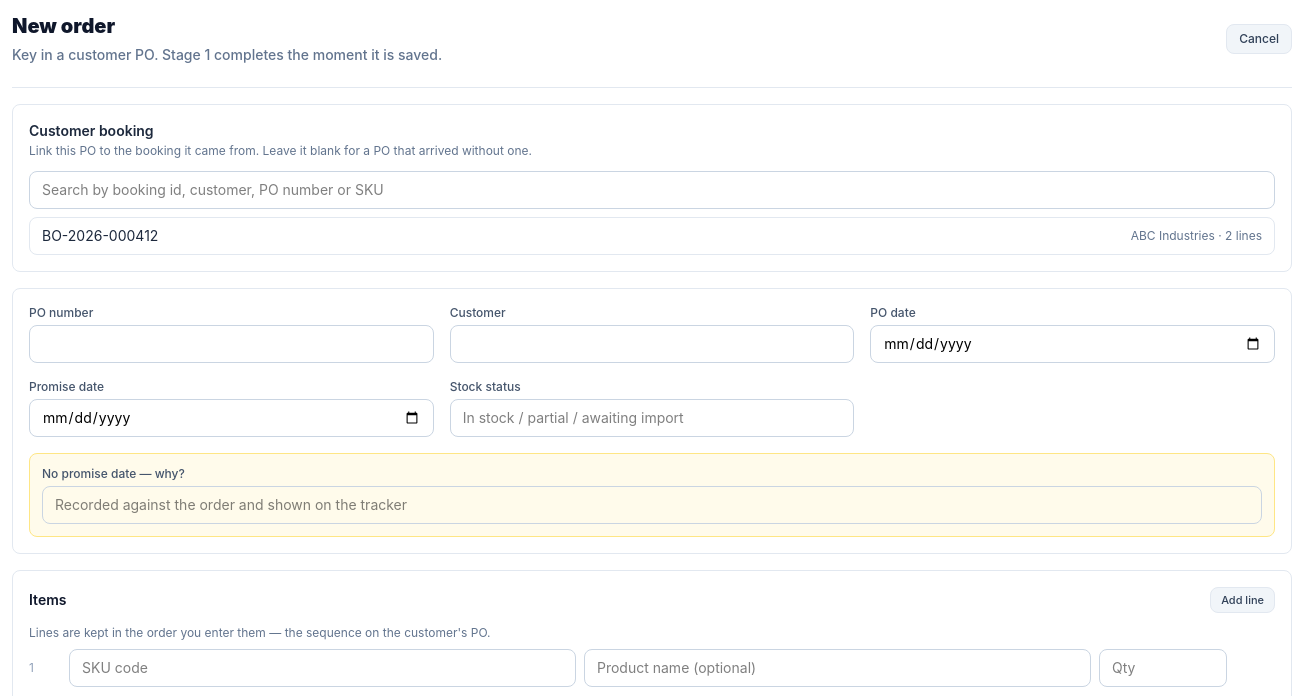
Scenario: the booking picker › unlinking clears the link without clearing the form
Click the text "BO-2026-000412": (100, 236) [42,226,158,246]
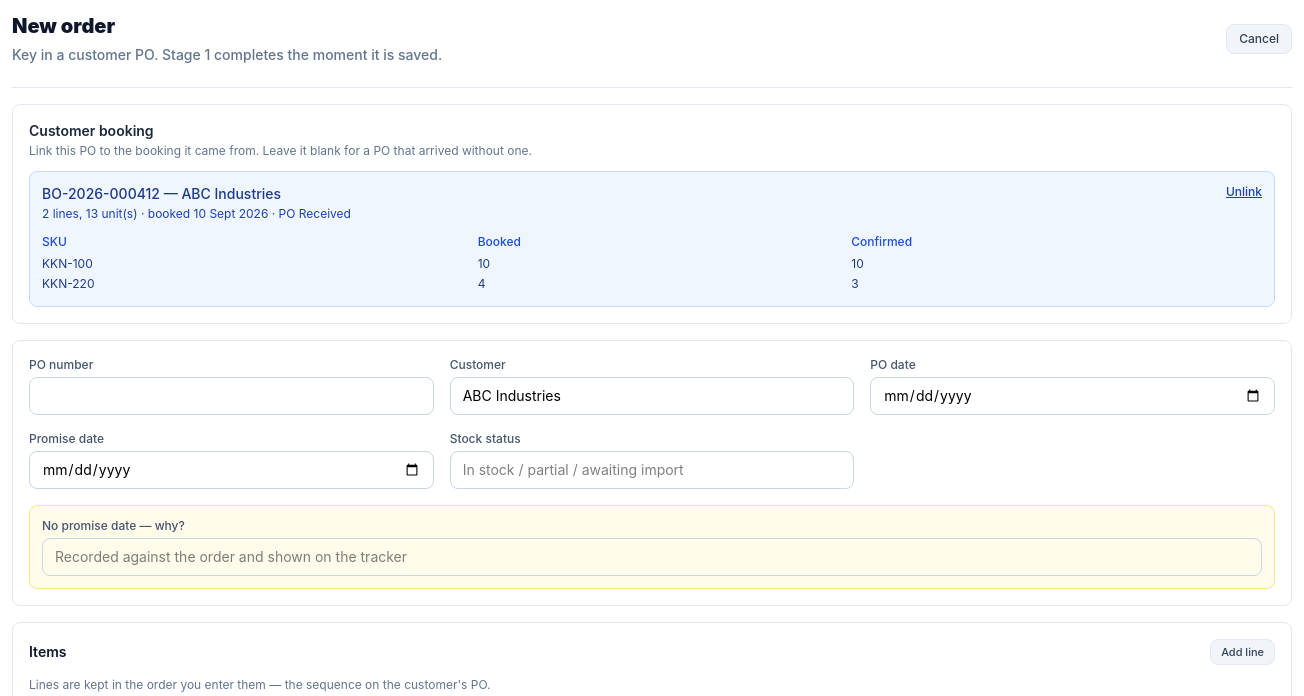
Click the button "Unlink": (1244, 192) [1226,184,1262,200]
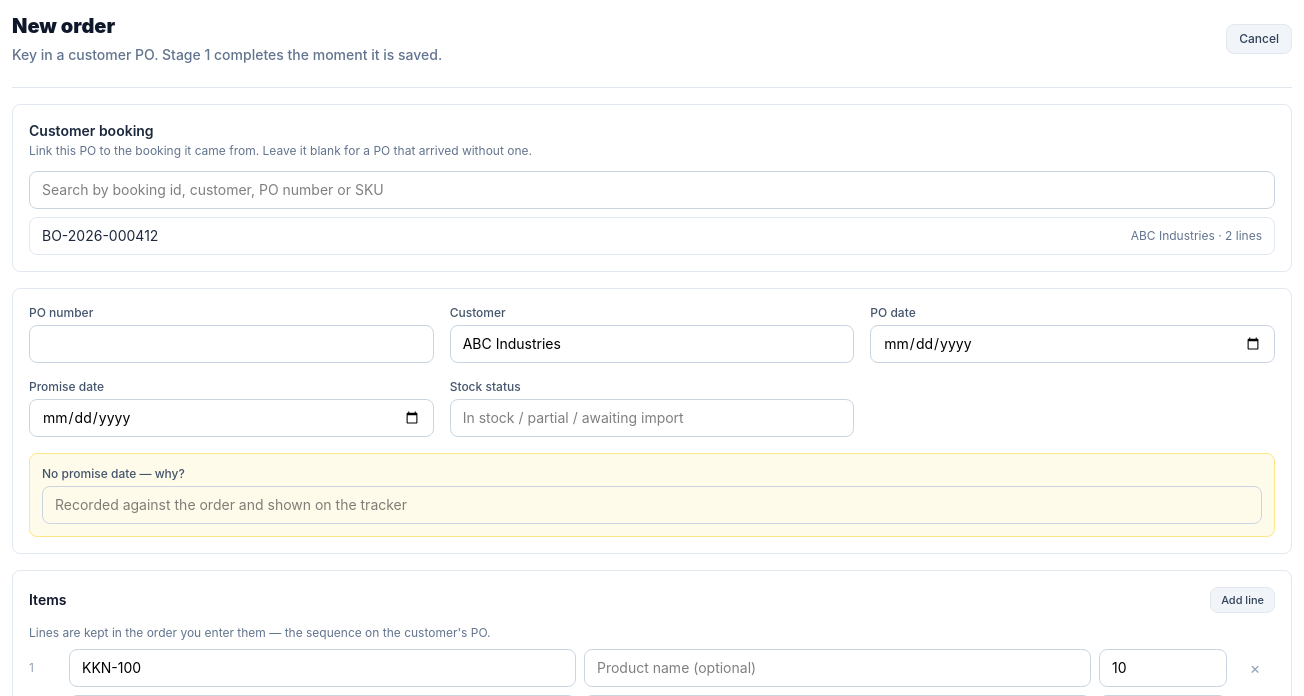
Now the field labelled "Customer" holds "ABC Industries", box [450,325,854,363]
Now the field named "search customer bookings" is shown, box [29,171,1275,209]
